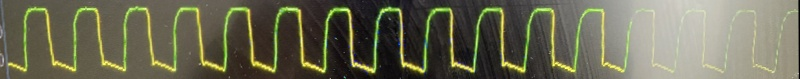normal_pressure: (0, 0, 775, 77)
